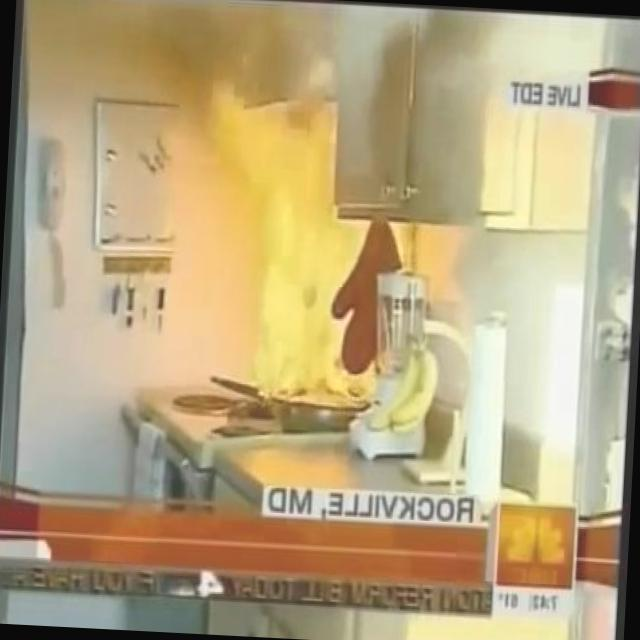fire: (230, 77, 407, 450)
